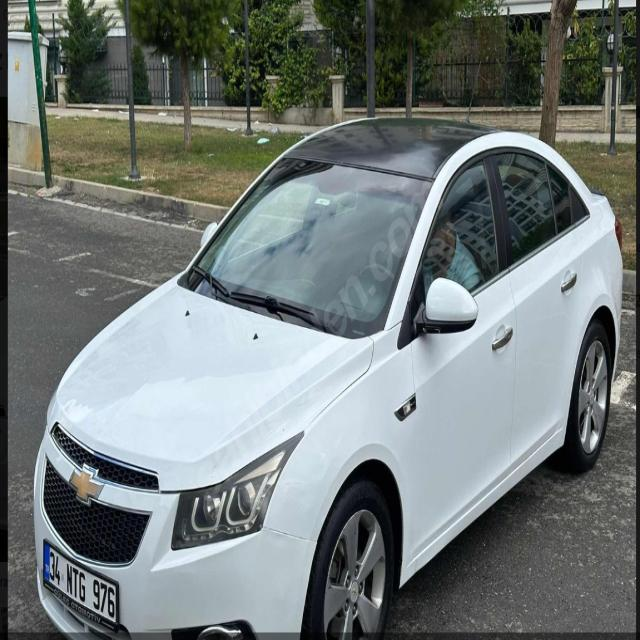chevrolet: (67, 457, 106, 509)
